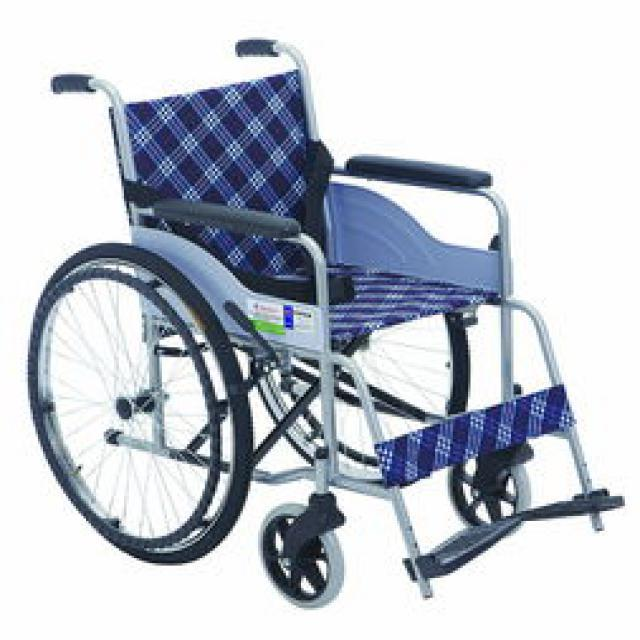wheelchair: (28, 37, 638, 625)
